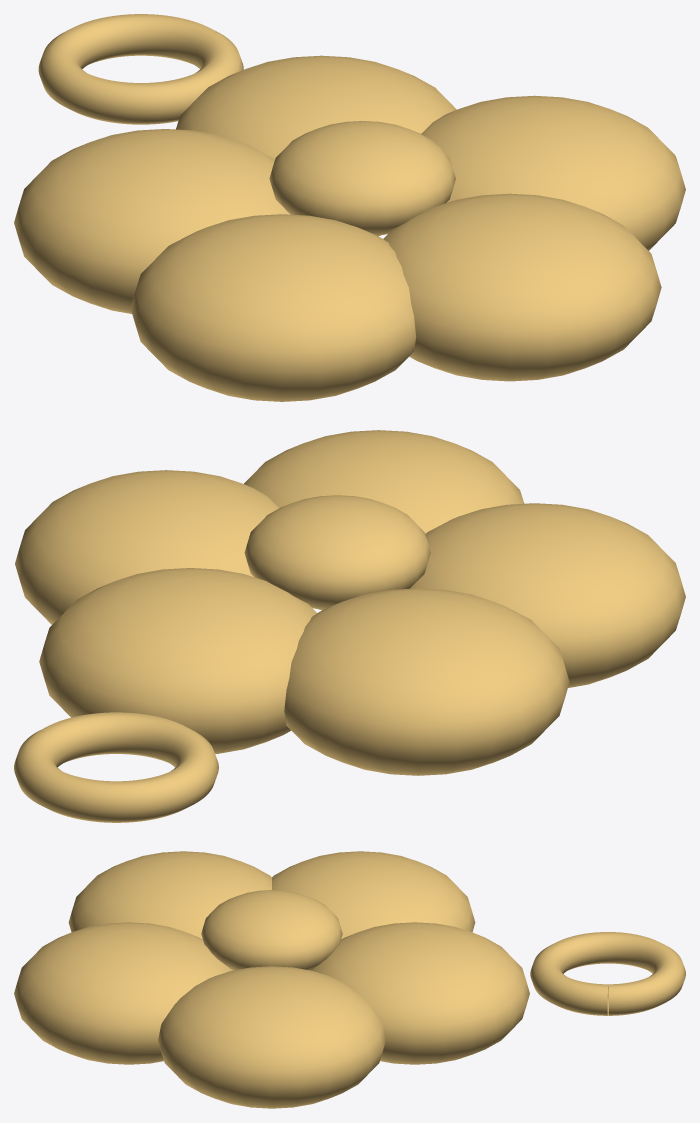
The model's file is pendant-13-gold.glb.
3 views of the same model, one above another, from view 1: azimuth 30°, elevation 25°; view 2: azimuth 150°, elevation 25°; view 3: azimuth 270°, elevation 25° (orthographic). The views are drawn at different scales.
Parts seen in each view (by area): view 1: Sphere.023, Sphere.024, Sphere.022, Sphere.020, Sphere.021, Sphere.025, Wire detail.012; view 2: Sphere.022, Sphere.021, Sphere.023, Sphere.020, Sphere.024, Wire detail.012, Sphere.025; view 3: Sphere.020, Sphere.021, Sphere.024, Sphere.022, Sphere.023, Wire detail.012, Sphere.025.
Boxes of the visible parts, x1=… form: Sphere.023: x1=130, y1=214, x2=416, y2=401; Sphere.024: x1=383, y1=193, x2=661, y2=381; Sphere.022: x1=14, y1=129, x2=289, y2=313; Sphere.020: x1=421, y1=95, x2=685, y2=250; Sphere.021: x1=176, y1=55, x2=456, y2=236; Sphere.025: x1=269, y1=121, x2=455, y2=235; Wire detail.012: x1=38, y1=14, x2=243, y2=124; Sphere.022: x1=284, y1=588, x2=569, y2=775; Sphere.021: x1=39, y1=568, x2=316, y2=753; Sphere.023: x1=410, y1=503, x2=685, y2=687; Sphere.020: x1=15, y1=470, x2=279, y2=624; Sphere.024: x1=244, y1=430, x2=524, y2=610; Wire detail.012: x1=14, y1=712, x2=218, y2=822; Sphere.025: x1=244, y1=495, x2=430, y2=609; Sphere.020: x1=158, y1=966, x2=385, y2=1108; Sphere.021: x1=310, y1=922, x2=529, y2=1064; Sphere.024: x1=14, y1=922, x2=233, y2=1064; Sphere.022: x1=272, y1=851, x2=475, y2=939; Sphere.023: x1=68, y1=851, x2=271, y2=939; Wire detail.012: x1=530, y1=932, x2=685, y2=1015; Sphere.025: x1=201, y1=890, x2=342, y2=970.
Size of the model in its own units: 0.00568 by 0.00155 by 0.0076.
